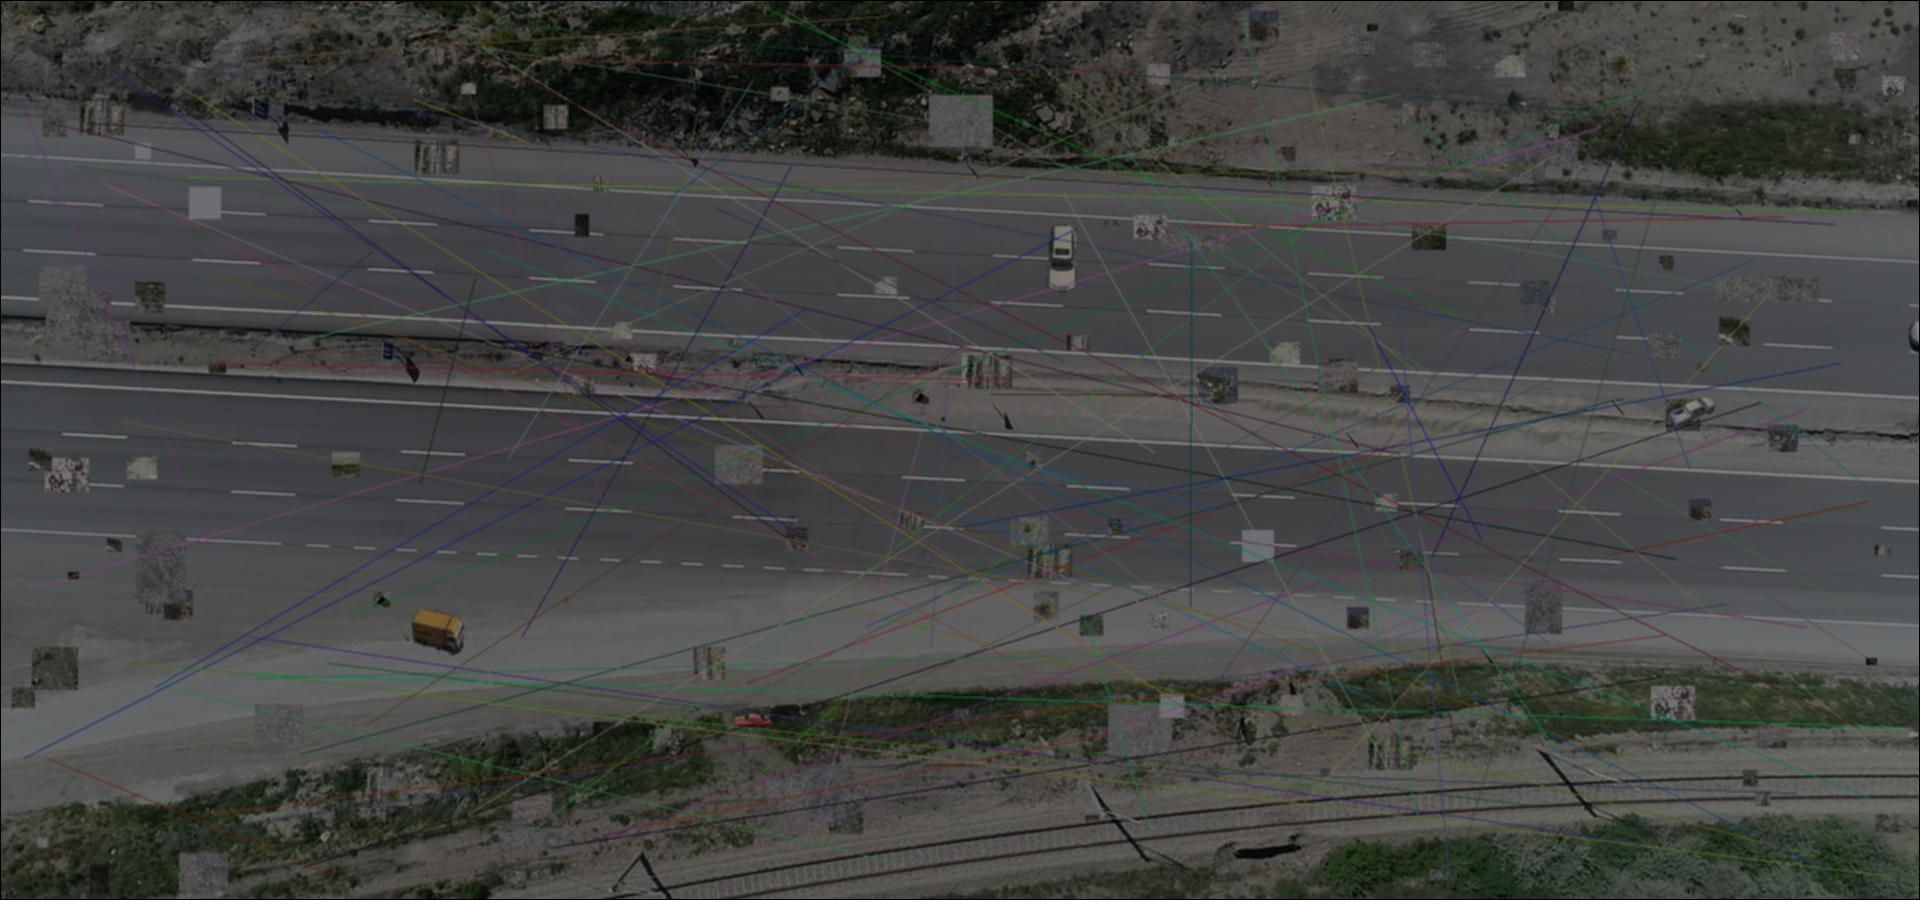arac: (410, 609, 467, 655), (1044, 225, 1080, 291), (1670, 396, 1716, 427), (732, 713, 773, 729)
